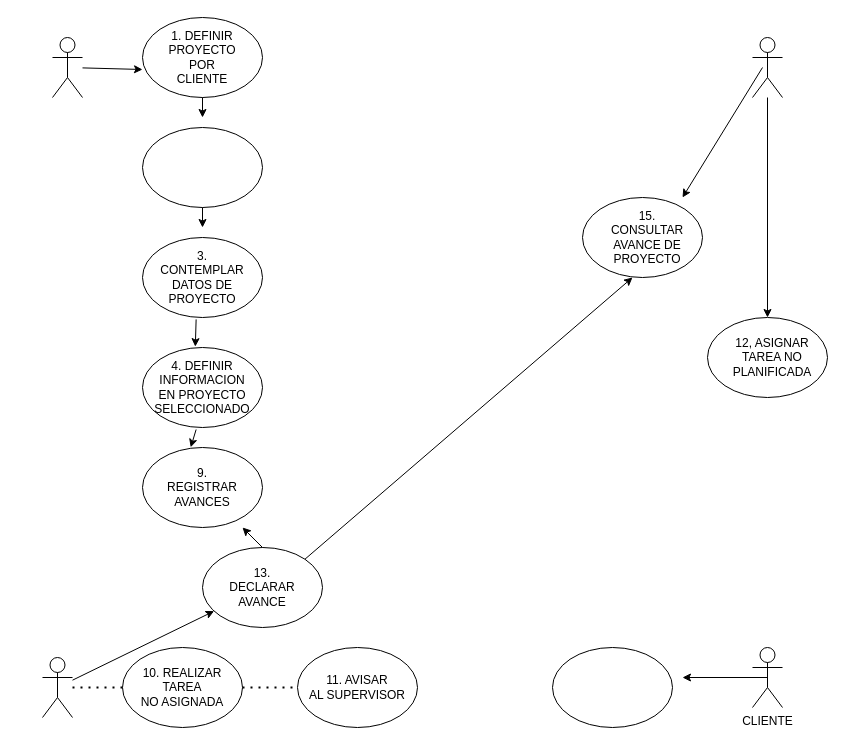
The diagram is 845 pixels wide and 756 high, and some of its shapes have lost their labels. The box of each missing label's shape, as (x1, y1, x2, y2) in pixels:
14. SOLICITAR INFORME: (552, 646, 672, 728)
2. DEFINIR EQUIPOS DE TRABAJO: (142, 126, 262, 208)
ADMINISTRADOR: (52, 36, 82, 98)
EMPLEADO: (42, 656, 72, 718)
SUPERVISOR: (752, 36, 782, 98)
